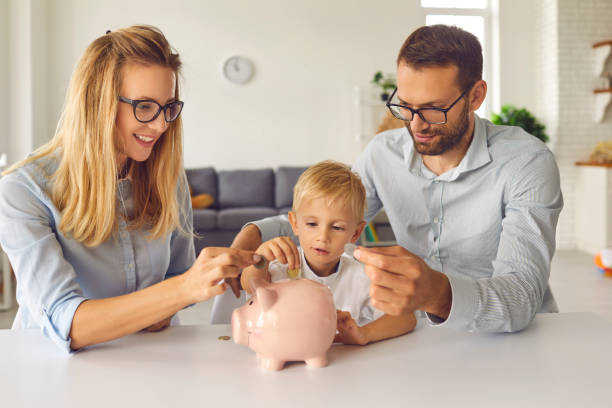without mask: (381, 39, 494, 158), (84, 43, 197, 162), (288, 183, 373, 266)
